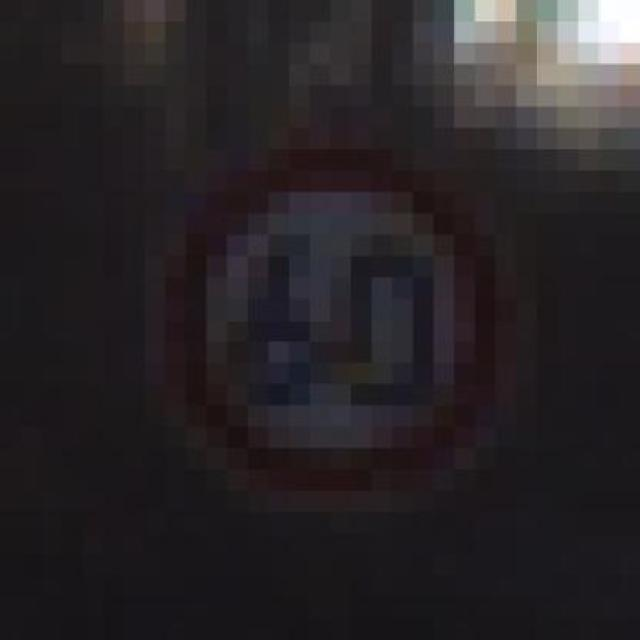forb_speed_over_60: (178, 157, 502, 486)
